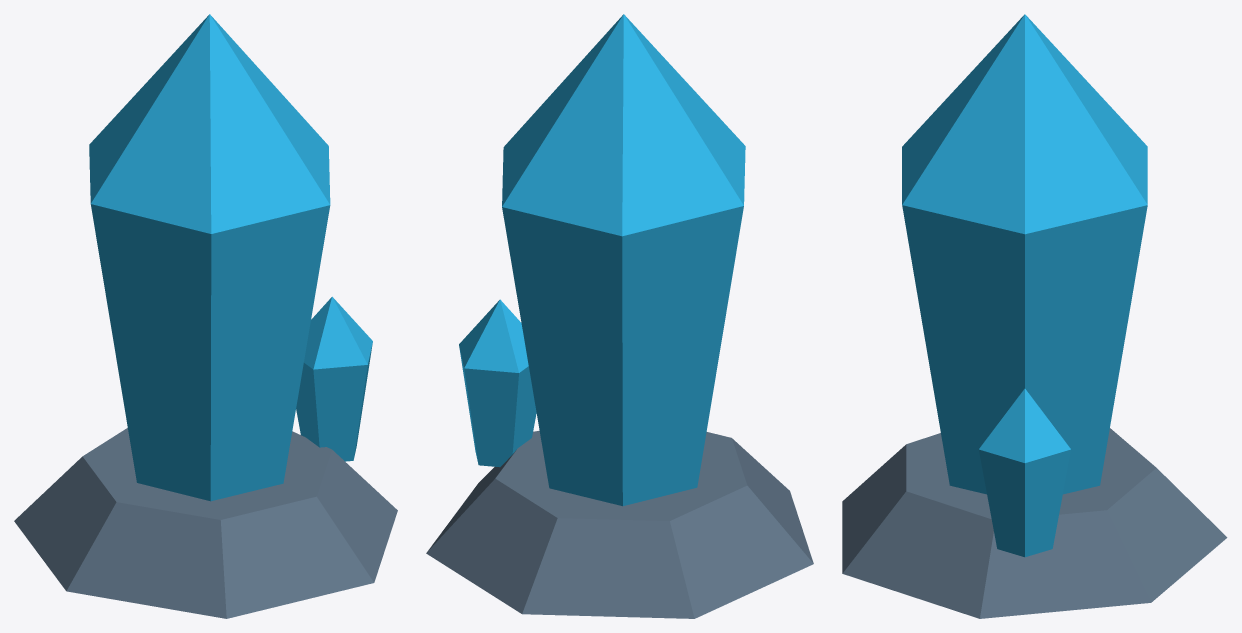
The model's file is skyglass_crystal_v001.fbx.
3 views of the same model, side by side, from view 1: azimuth 30°, elevation 25°; view 2: azimuth 150°, elevation 25°; view 3: azimuth 270°, elevation 25° (orthographic).
Visible parts, largest first — view 1: Crystal_Main, Stone_Base, Crystal_East; view 2: Crystal_Main, Stone_Base, Crystal_East; view 3: Crystal_Main, Stone_Base, Crystal_East.
Boxes of the visible parts, <box> form: Crystal_Main: <box>89,14,330,501</box>; Stone_Base: <box>14,428,397,618</box>; Crystal_East: <box>296,296,372,461</box>; Crystal_Main: <box>502,14,745,506</box>; Stone_Base: <box>426,430,813,618</box>; Crystal_East: <box>459,299,536,467</box>; Crystal_Main: <box>902,14,1147,494</box>; Stone_Base: <box>842,428,1227,618</box>; Crystal_East: <box>978,388,1070,557</box>.
Size of the model in its own units: 0.56 by 0.84 by 0.56.
